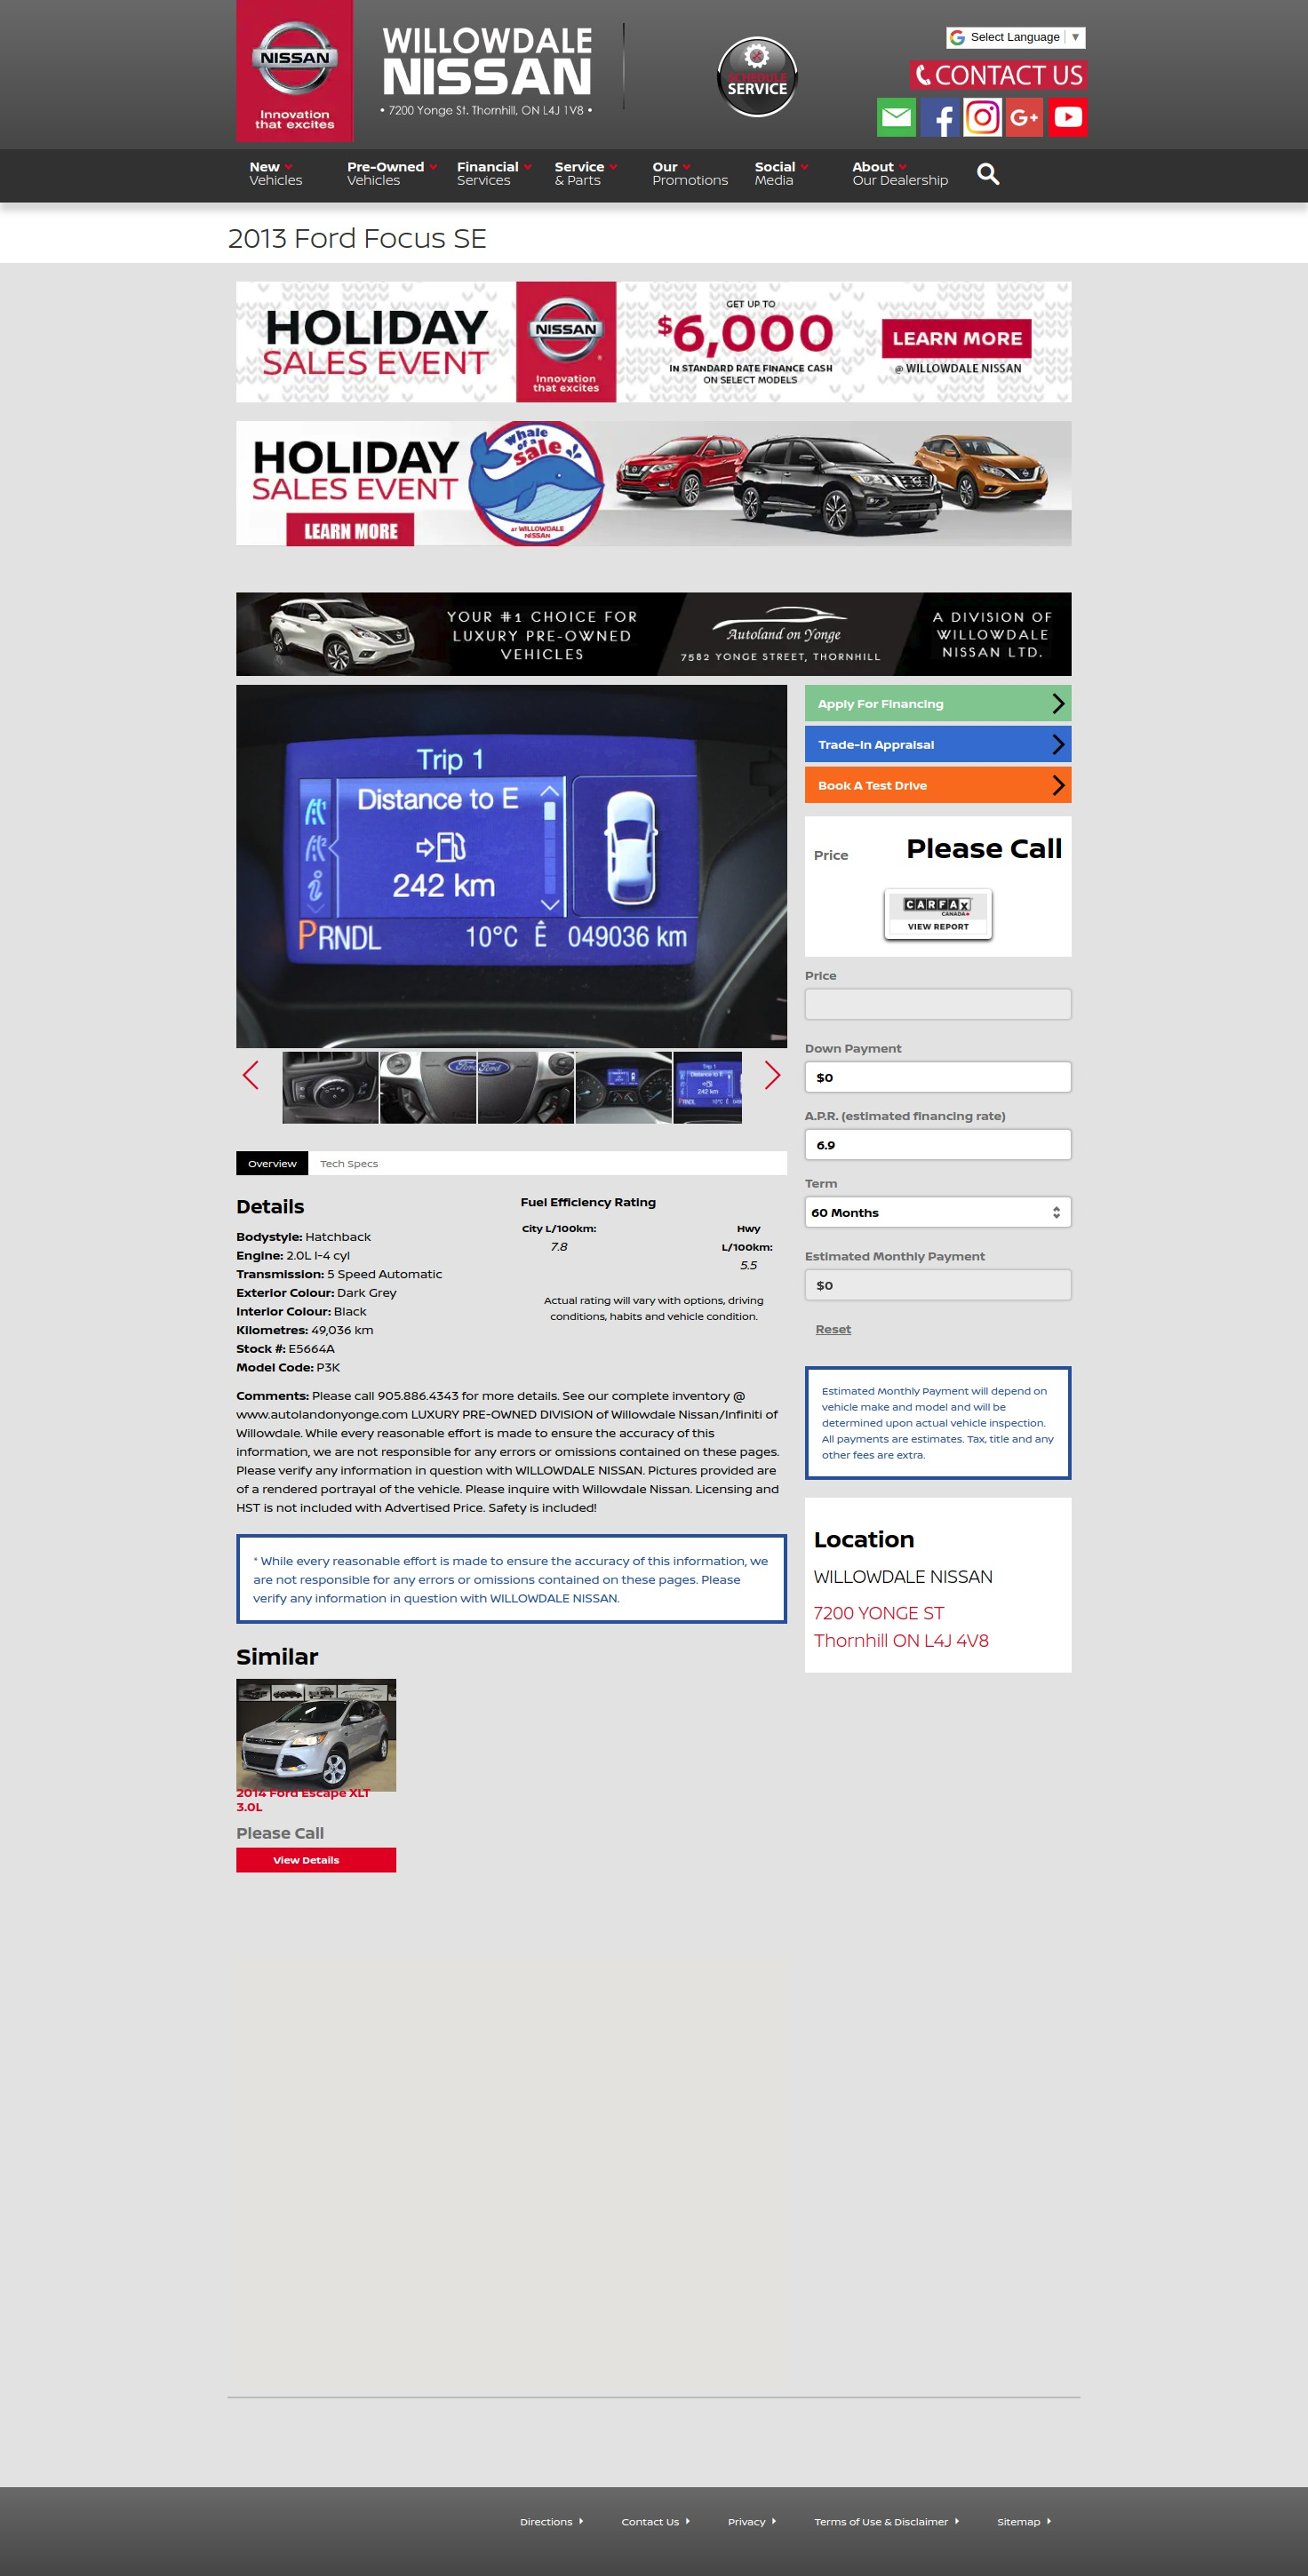car: (764, 1060, 782, 1090)
